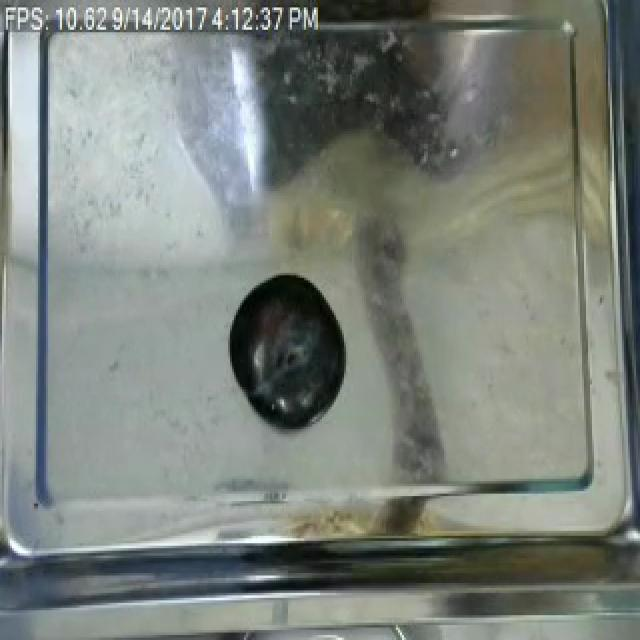Fruit: (224, 268, 350, 432)
